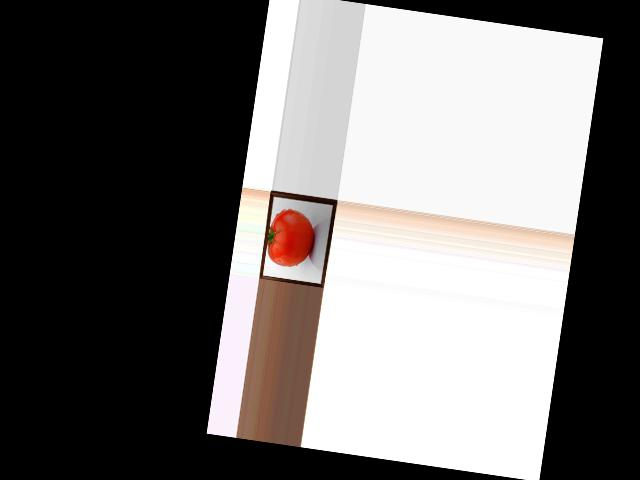tomato: (264, 206, 317, 269)
